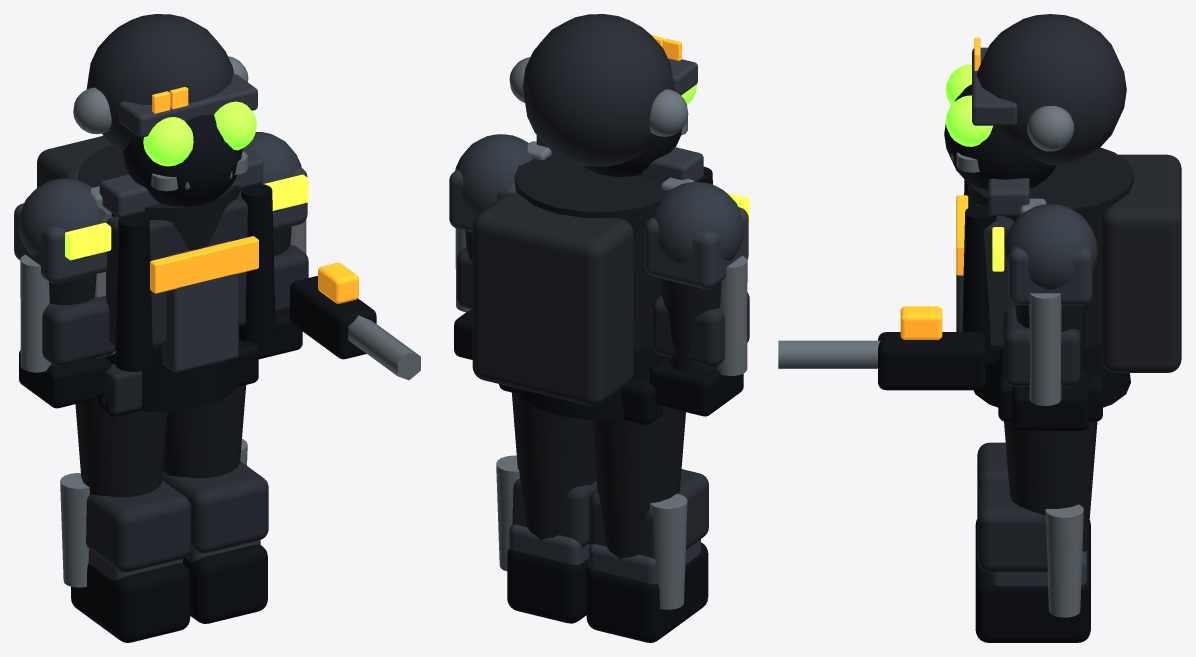
File: assault_l02.glb
3 renders of one model, left to right at view 1: azimuth 30°, elevation 25°; view 2: azimuth 150°, elevation 25°; view 3: azimuth 270°, elevation 25°, orthographic. The views are drawn at different scales.
Parts seen in each view (by area): view 1: shaped_knee_guard (×2), trouser (×2), boot (×2), rounded_helmet, vest_tether (×2), front_plate, enclosed_mask, shoulder_joint (×2), forearm_plate (×2), segmented_vest, glove (×2), waist_flex (+19 smaller); view 2: field_pack, rounded_helmet, trouser (×2), boot (×2), body, shoulder_joint (×2), shin_frame (×2), shaped_knee_guard (×2), shoulder_plate (×2), glove (×2), forearm_plate (×2), shin_plate (×2) (+8 smaller); view 3: field_pack, rounded_helmet, trouser, shaped_knee_guard (×2), body, boot, carbine_body, shoulder_joint, shin_frame, forearm_seam, enclosed_mask, vest_tether (+17 smaller).
Boxes of the visible parts, left/top/right/bottom form: shaped_knee_guard (×2): left=86, top=461, right=268, bottom=572; trouser (×2): left=75, top=385, right=246, bottom=497; boot (×2): left=71, top=544, right=267, bottom=642; rounded_helmet: left=86, top=14, right=233, bottom=152; vest_tether (×2): left=115, top=183, right=275, bottom=371; front_plate: left=162, top=241, right=238, bottom=372; enclosed_mask: left=123, top=114, right=242, bottom=206; shoulder_joint (×2): left=19, top=132, right=301, bottom=258; forearm_plate (×2): left=42, top=245, right=308, bottom=366; segmented_vest: left=106, top=189, right=247, bottom=347; glove (×2): left=19, top=311, right=302, bottom=408; waist_flex: left=105, top=347, right=237, bottom=411; field_pack: left=472, top=193, right=633, bottom=406; rounded_helmet: left=522, top=14, right=674, bottom=166; trouser (×2): left=512, top=392, right=685, bottom=559; boot (×2): left=507, top=542, right=708, bottom=642; body: left=514, top=155, right=667, bottom=349; shoulder_joint (×2): left=455, top=134, right=743, bottom=263; shin_frame (×2): left=496, top=455, right=687, bottom=609; shaped_knee_guard (×2): left=512, top=469, right=708, bottom=559; shoulder_plate (×2): left=449, top=169, right=748, bottom=289; glove (×2): left=454, top=310, right=743, bottom=416; forearm_plate (×2): left=457, top=248, right=749, bottom=367; shin_plate (×2): left=509, top=524, right=700, bottom=584; field_pack: left=1101, top=154, right=1181, bottom=372; rounded_helmet: left=976, top=14, right=1126, bottom=165; trouser: left=1004, top=421, right=1097, bottom=551; shaped_knee_guard (×2): left=977, top=442, right=1047, bottom=572; body: left=967, top=147, right=1134, bottom=347; boot: left=975, top=554, right=1090, bottom=642; carbine_body: left=878, top=332, right=985, bottom=390; shoulder_joint: left=1004, top=204, right=1097, bottom=289; shin_frame: left=1045, top=504, right=1083, bottom=617; forearm_seam: left=1029, top=293, right=1061, bottom=405; enclosed_mask: left=944, top=84, right=1056, bottom=190; vest_tether: left=962, top=205, right=999, bottom=364.
Bounding box in the file's own units: 0.9406 × 1.86 × 1.16.
